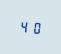four: (19, 19, 29, 33)
zero: (30, 20, 40, 34)
